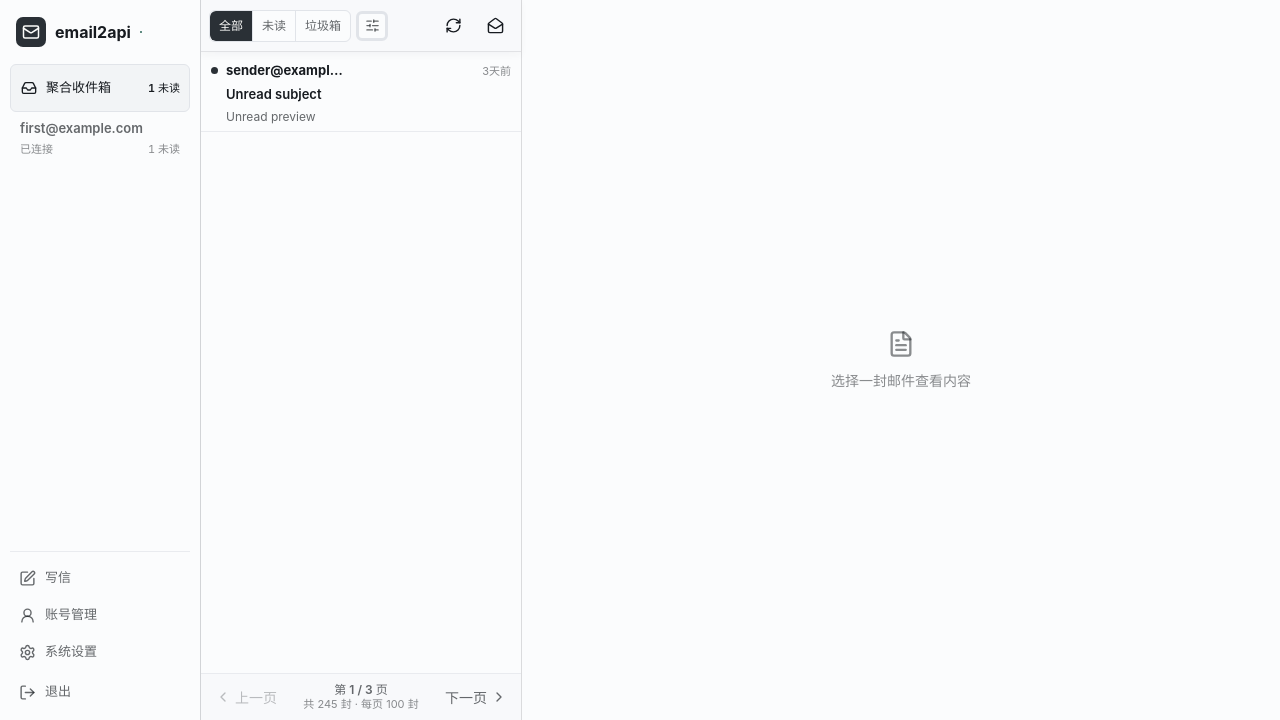
message list interactions › shows the current page, total pages and filtered message total
Check: the text "第 1 / 3 页" is shown, box [334, 682, 388, 697]
Check: the text "共 245 封 · 每页 100 封" is shown, box [303, 698, 419, 712]
What coordinates should you click on to do the following:
click the button "下一页"
I would click on:
 (476, 697)
Its box is [439, 679, 513, 715].
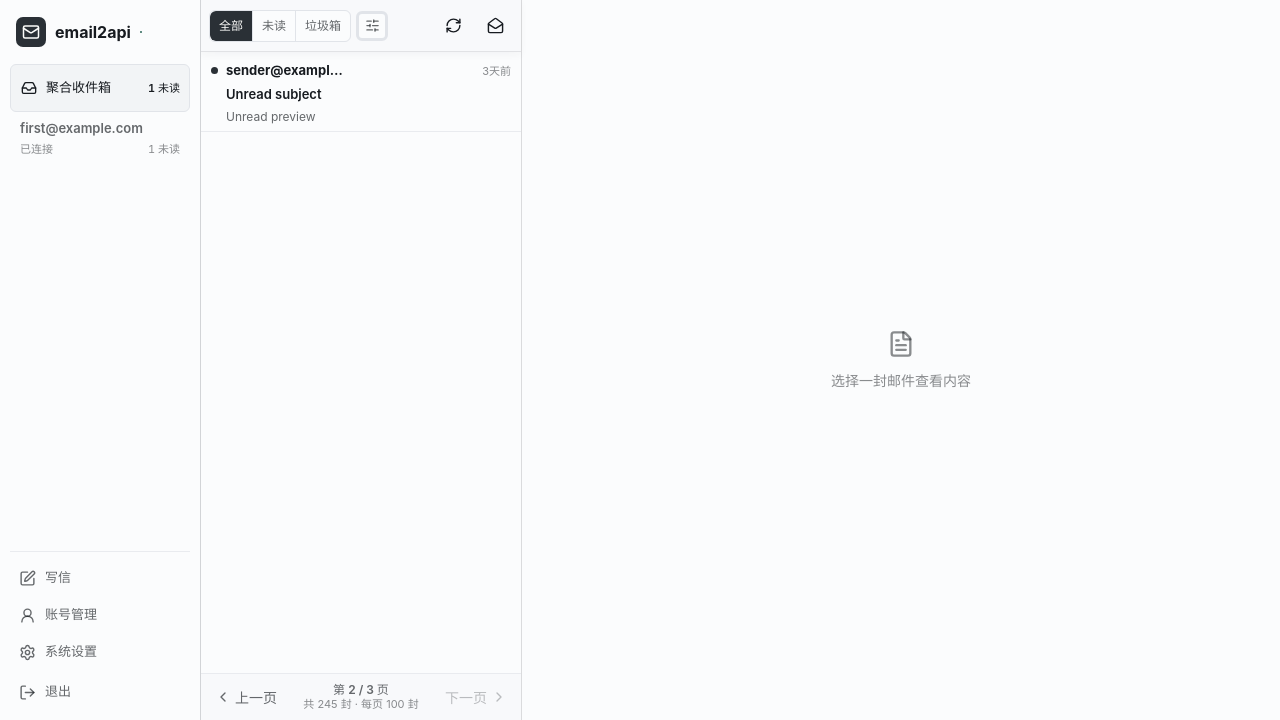
Check: the text "第 2 / 3 页" is shown, box [333, 682, 389, 697]
